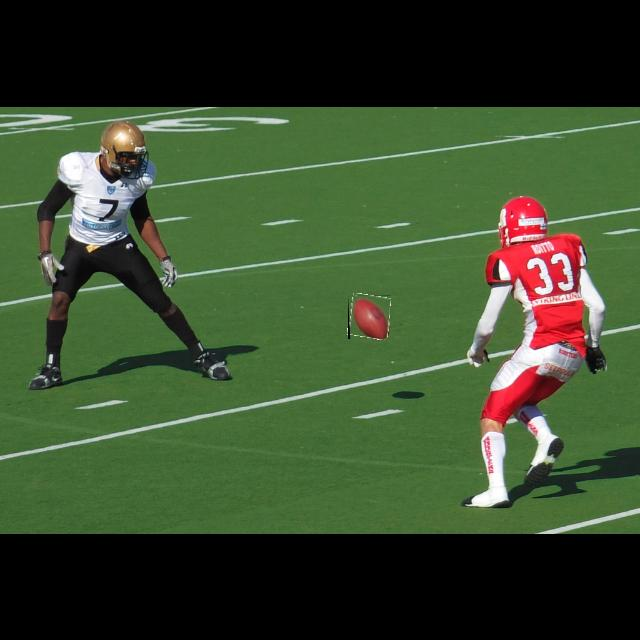Football: (348, 295, 390, 339)
